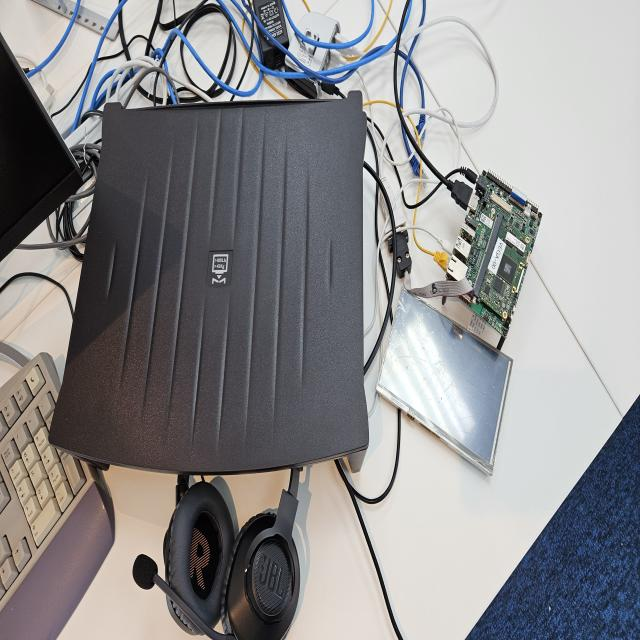som: (468, 213, 537, 323)
